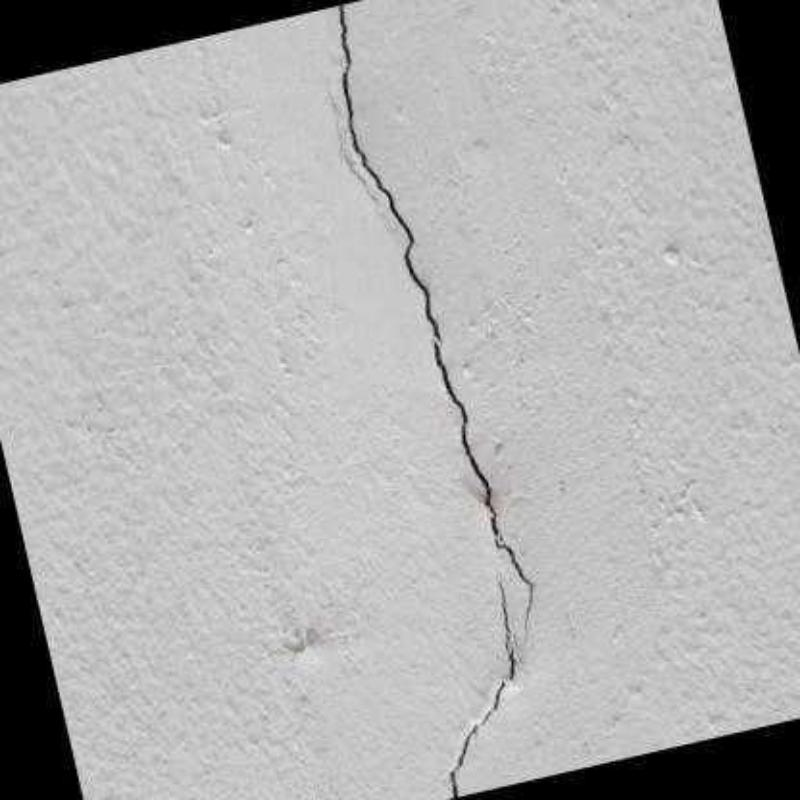crack: (341, 5, 542, 652), (450, 548, 517, 799)
